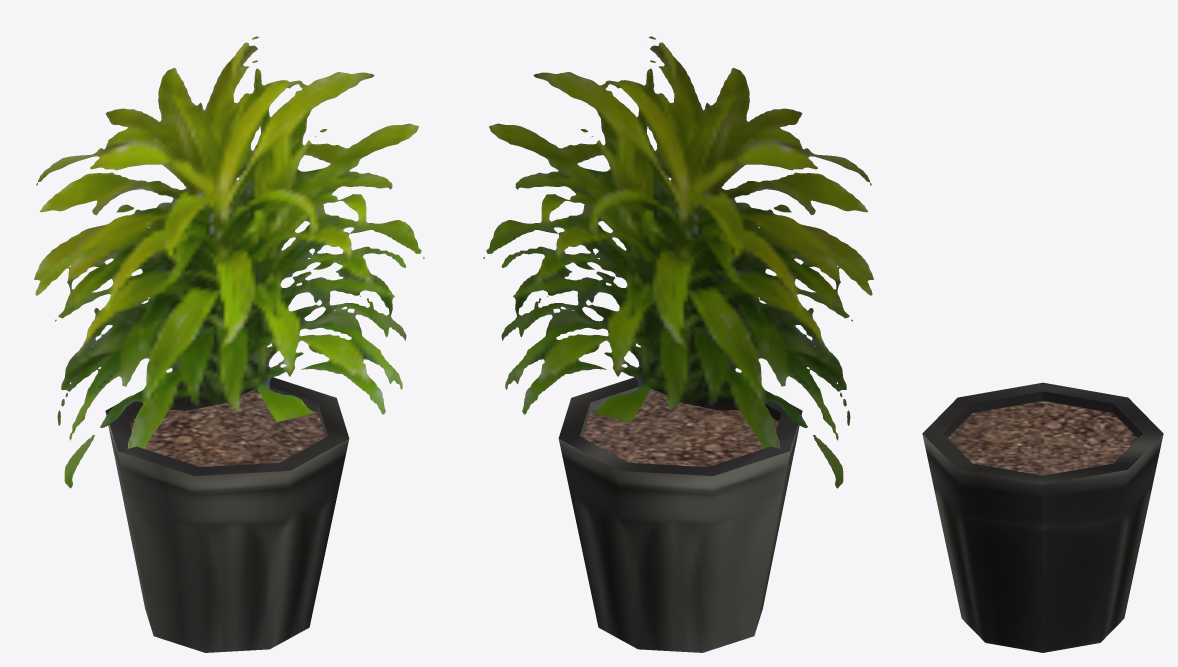
File: studio_plant_1.FBX
The picture shows the model from 3 angles, left to right: view 1: azimuth 30°, elevation 25°; view 2: azimuth 150°, elevation 25°; view 3: azimuth 270°, elevation 25°; orthographic projection. The views are drawn at different scales.
Visible parts, largest first — view 1: plant_1, office_pot; view 2: plant_1, office_pot; view 3: office_pot.
Part boxes in pixels (<box>): plant_1: <box>34,36,424,488</box>; office_pot: <box>105,377,349,652</box>; plant_1: <box>483,36,873,488</box>; office_pot: <box>558,377,802,652</box>; office_pot: <box>922,382,1163,652</box>.
Size of the model in its own units: 63.16 by 83.4 by 32.48.
